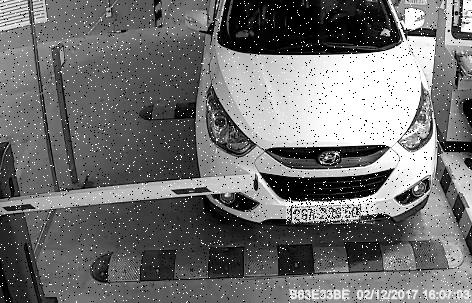License-plate: (288, 199, 378, 225)
